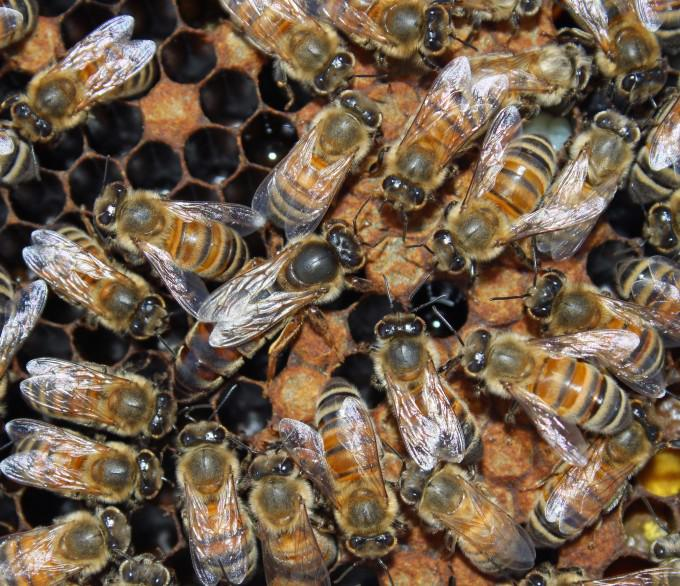bee: (527, 400, 662, 545), (470, 326, 632, 431), (375, 315, 486, 465), (439, 133, 557, 265), (317, 380, 400, 558), (539, 110, 641, 251), (271, 92, 380, 222), (527, 274, 665, 376), (400, 463, 520, 577), (96, 186, 247, 276), (53, 221, 166, 336), (17, 46, 158, 133), (388, 84, 486, 208), (179, 425, 256, 579), (14, 426, 164, 503), (29, 355, 177, 432), (248, 451, 337, 572), (231, 0, 352, 88), (0, 507, 126, 586), (585, 0, 665, 94), (457, 44, 588, 101), (319, 0, 452, 51), (630, 83, 680, 200), (617, 258, 680, 338), (0, 125, 41, 184), (0, 0, 45, 49), (0, 266, 17, 392), (643, 195, 680, 251), (646, 527, 680, 586), (118, 557, 172, 586), (454, 0, 540, 18), (522, 566, 589, 586)
queen: (170, 228, 367, 398)
